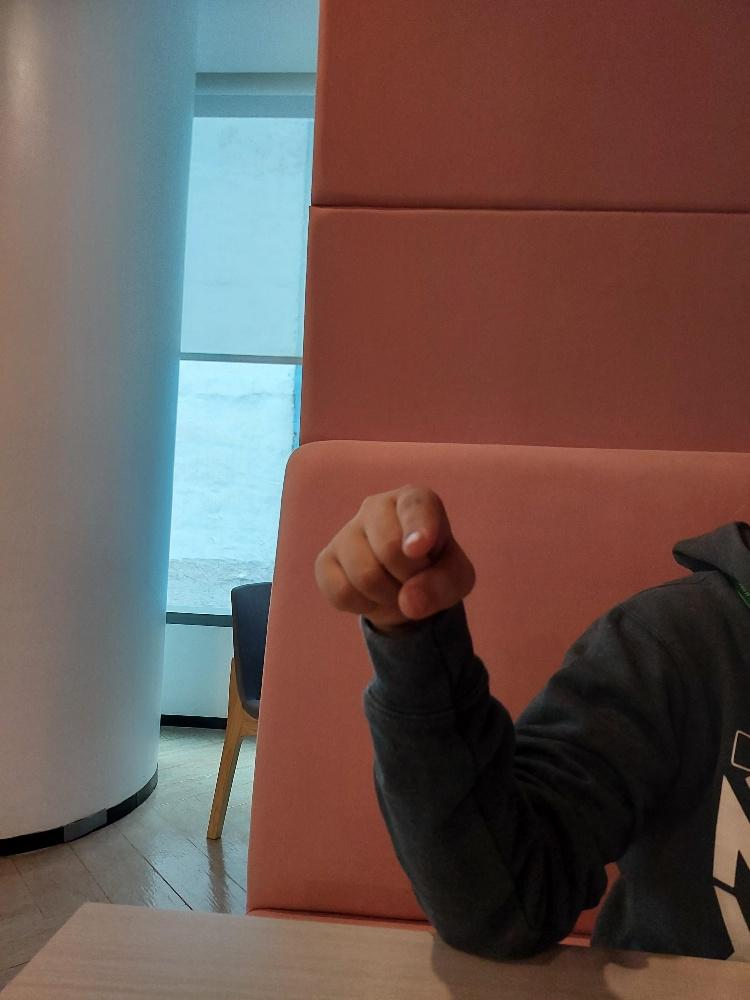z: (305, 472, 484, 637)
